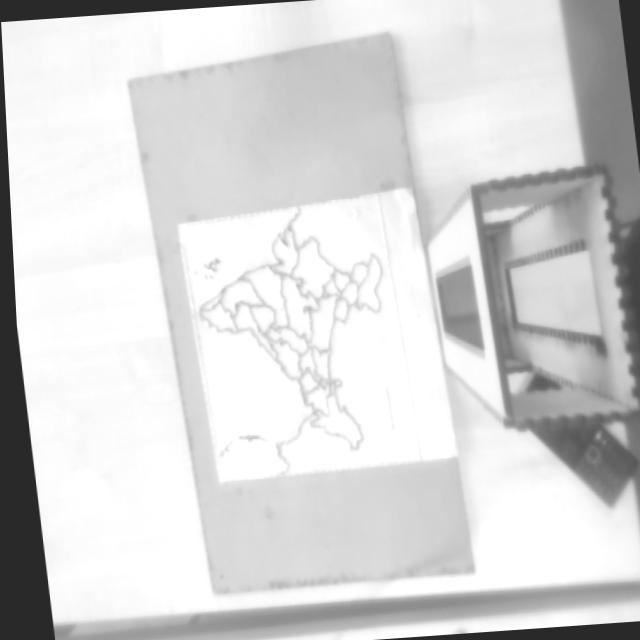map: (177, 192, 421, 493)
